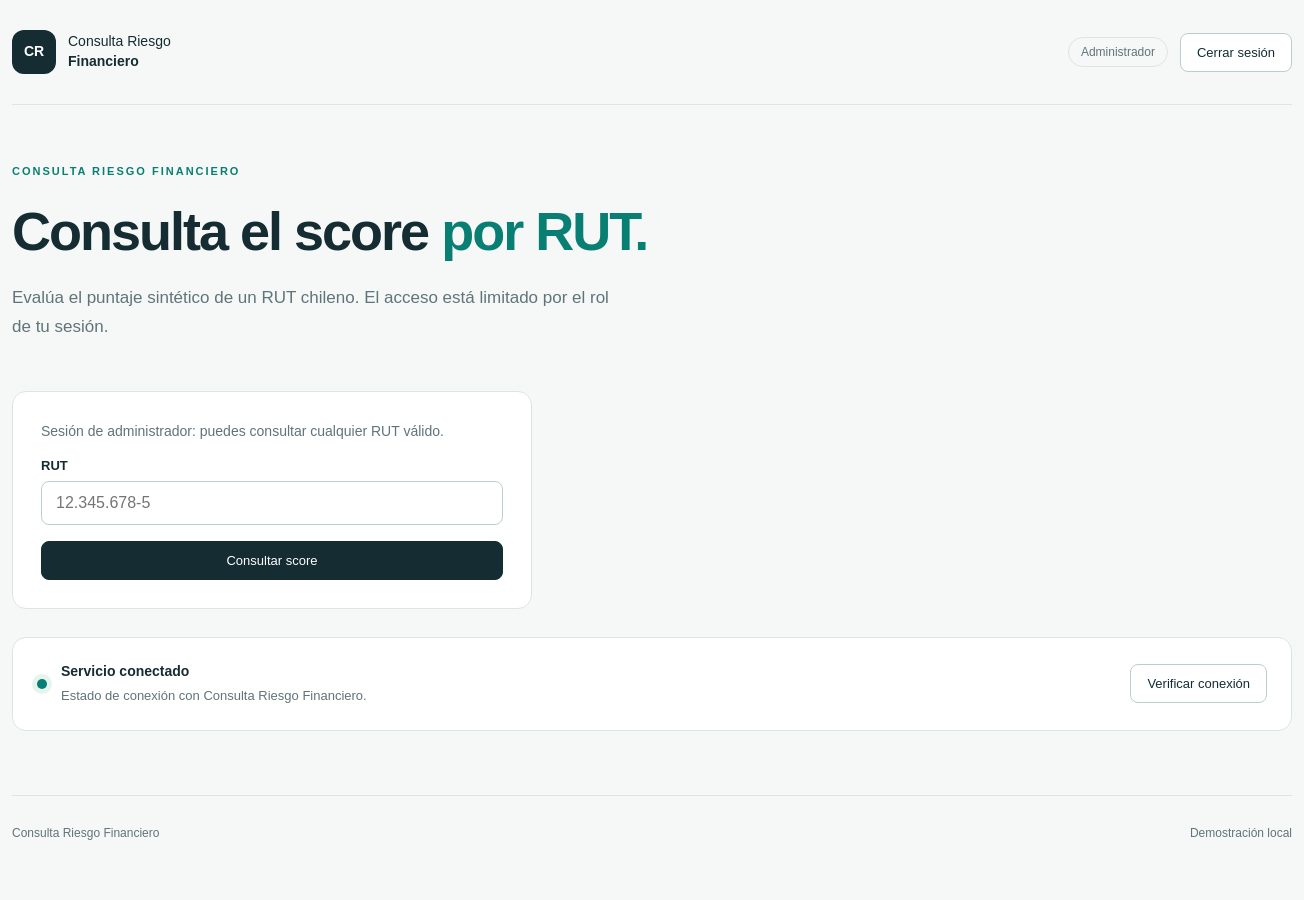
ConsultaApp › shows a persistent expiry notice after returning to login
This screenshot has width=1304, height=900.
Type "12345678-5" into the field labelled "RUT" at coordinates (272, 503), box [41,481,503,525]
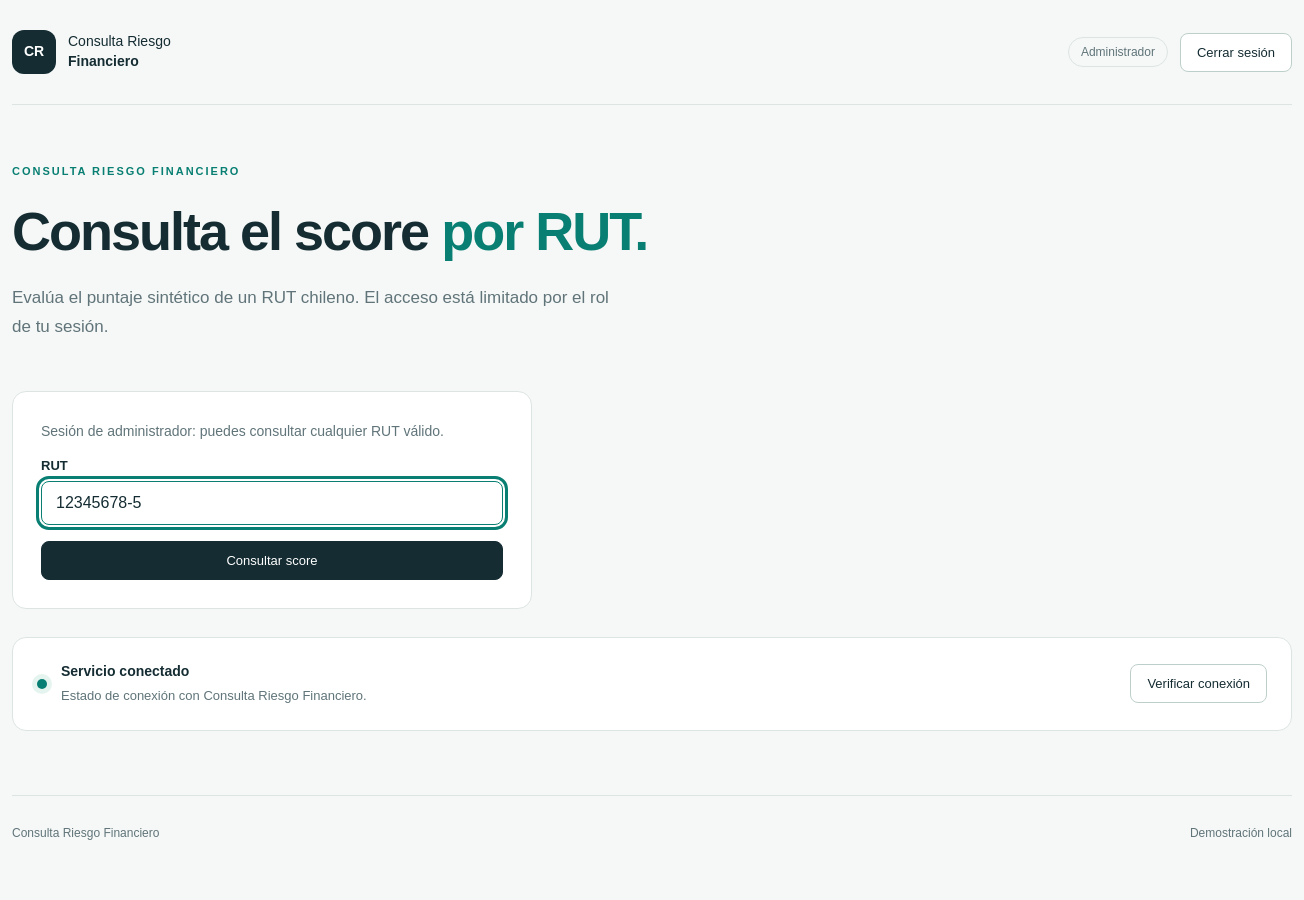
Click the button "Consultar score" at coordinates (272, 561), box [41,541,503,580]
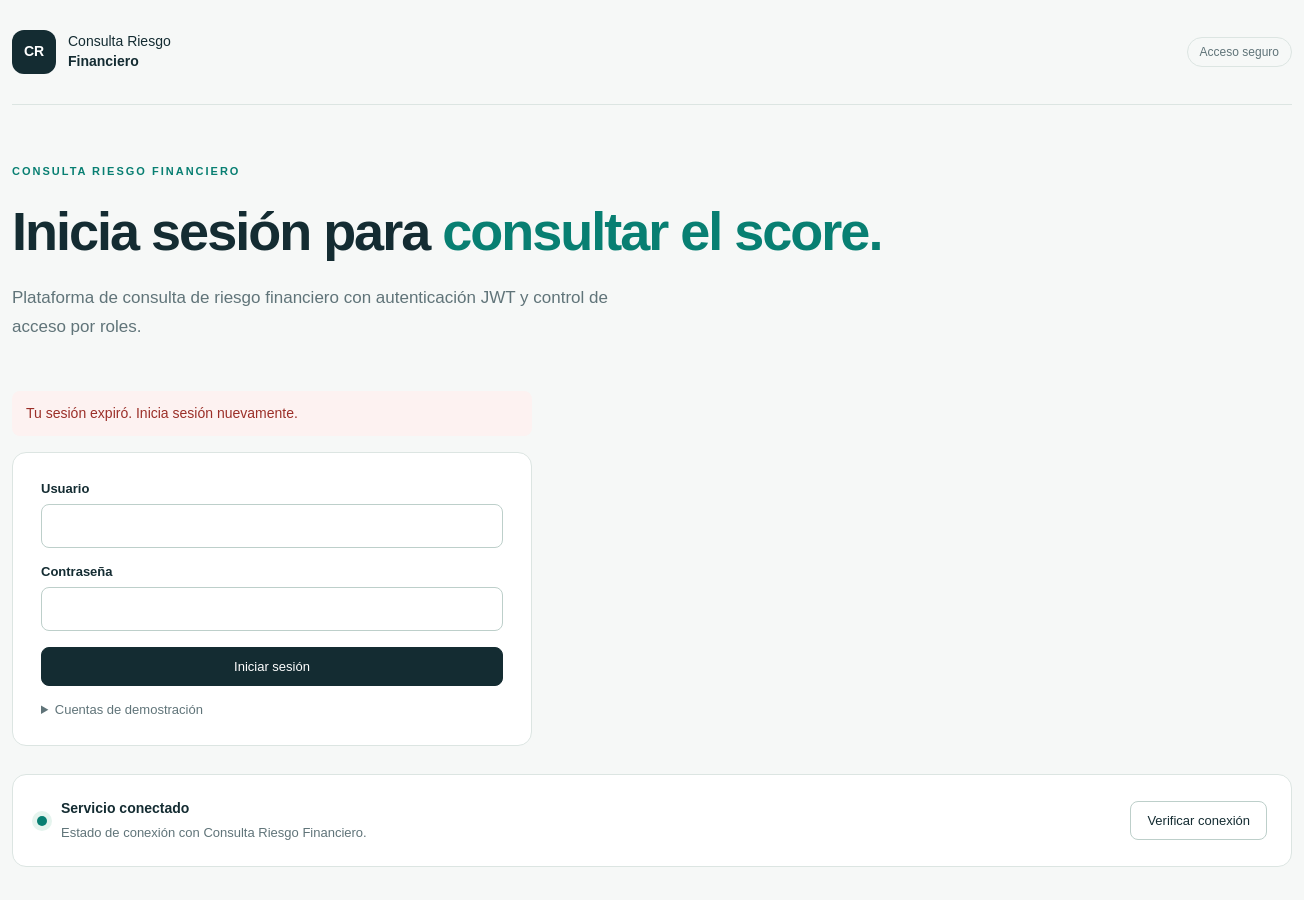
Now the message "Tu sesión expiró. Inicia sesión nuevamente." is shown, box [12,391,532,436]
Now the field labelled "Usuario" is shown, box [41,504,503,548]
